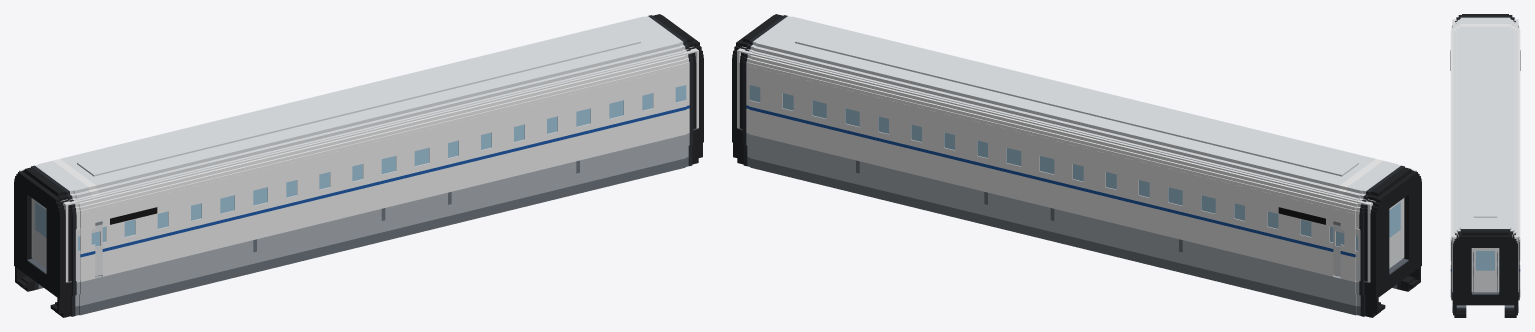
File: mlx01_car.obj
The picture shows the model from 3 angles, left to right: view 1: azimuth 30°, elevation 25°; view 2: azimuth 150°, elevation 25°; view 3: azimuth 270°, elevation 25°; orthographic projection. The views are drawn at different scales.
Visible parts, largest first — view 1: SHELL, SHELL_roof, SHELL_diaphragm, SHELL_ceiling, CONNECTING_DOOR_1_CG_CR_TOGGLE_TL_0.98_Z, SHELL_end; view 2: SHELL, SHELL_roof, SHELL_diaphragm, SHELL_ceiling, CONNECTING_DOOR_1_CG_CR_TOGGLE_TL_0.98_Z, SHELL_end; view 3: SHELL, SHELL_roof, SHELL_diaphragm, SHELL_ceiling, CONNECTING_DOOR_2_CG_CF_TOGGLE_TL_0.98_Z, SHELL_end, SHELL_gangway.
Part boxes in pixels (x1=…): SHELL: x1=20, y1=14, x2=699, y2=317; SHELL_roof: x1=77, y1=29, x2=640, y2=176; SHELL_diaphragm: x1=14, y1=15, x2=703, y2=314; SHELL_ceiling: x1=21, y1=47, x2=696, y2=205; CONNECTING_DOOR_1_CG_CR_TOGGLE_TL_0.98_Z: x1=33, y1=199, x2=46, y2=268; SHELL_end: x1=19, y1=46, x2=698, y2=282; SHELL: x1=736, y1=14, x2=1415, y2=317; SHELL_roof: x1=795, y1=29, x2=1358, y2=176; SHELL_diaphragm: x1=732, y1=15, x2=1421, y2=314; SHELL_ceiling: x1=739, y1=47, x2=1414, y2=205; CONNECTING_DOOR_1_CG_CR_TOGGLE_TL_0.98_Z: x1=1389, y1=199, x2=1402, y2=268; SHELL_end: x1=737, y1=46, x2=1416, y2=282; SHELL: x1=1450, y1=14, x2=1520, y2=317; SHELL_roof: x1=1473, y1=28, x2=1497, y2=217; SHELL_diaphragm: x1=1453, y1=15, x2=1517, y2=316; SHELL_ceiling: x1=1452, y1=19, x2=1518, y2=236; CONNECTING_DOOR_2_CG_CF_TOGGLE_TL_0.98_Z: x1=1473, y1=248, x2=1497, y2=292; SHELL_end: x1=1452, y1=19, x2=1518, y2=292; SHELL_gangway: x1=1472, y1=291, x2=1498, y2=294.
Bounding box in the file's own units: 21.92 × 3.97 × 2.92.
Materials: 1 (1 with a texture image).
